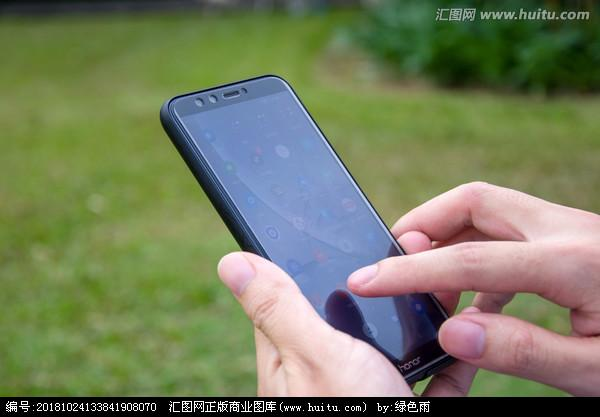reading: (156, 69, 595, 395)
